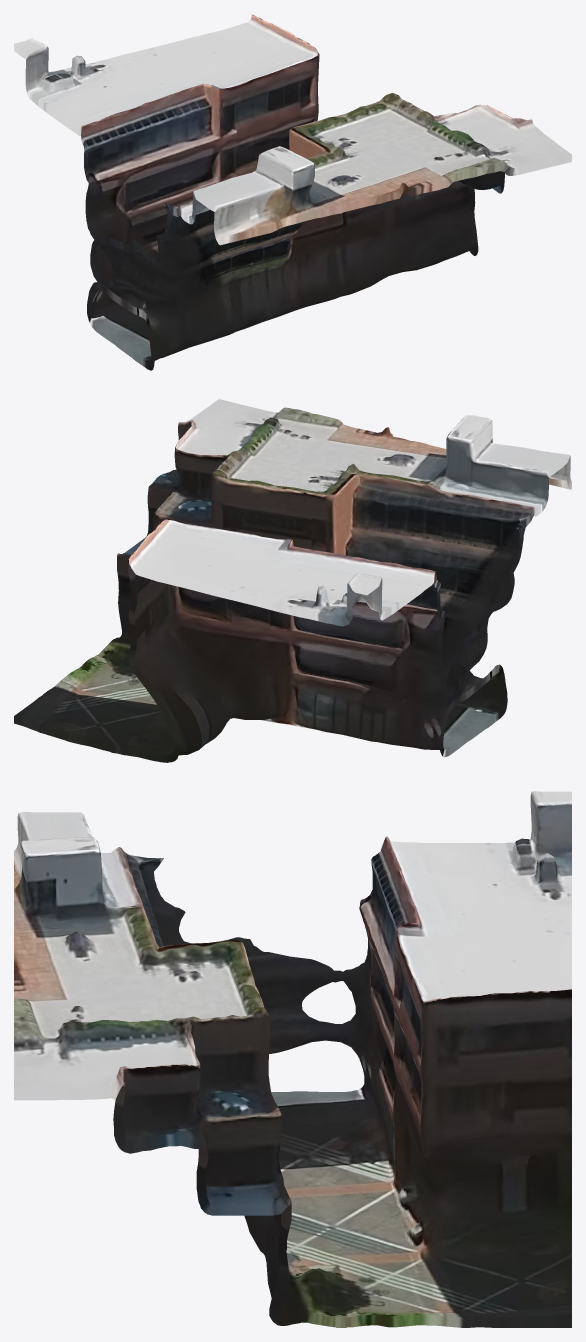
The model's file is z20-167768-405196-h0-yup-uvflip-v3-world.glb.
The picture shows the model from 3 angles, top to bottom: view 1: azimuth 30°, elevation 25°; view 2: azimuth 150°, elevation 25°; view 3: azimuth 270°, elevation 25°; orthographic projection. The views are drawn at different scales.
Bounding box in the file's own units: 30.16 × 18.88 × 30.32.
Materials: 1 (1 with a texture image).
